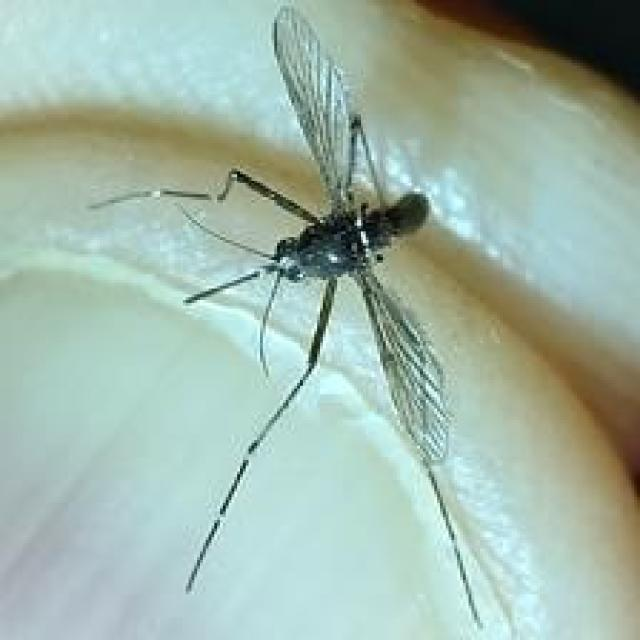Aedes albopictus: (86, 3, 491, 628)
